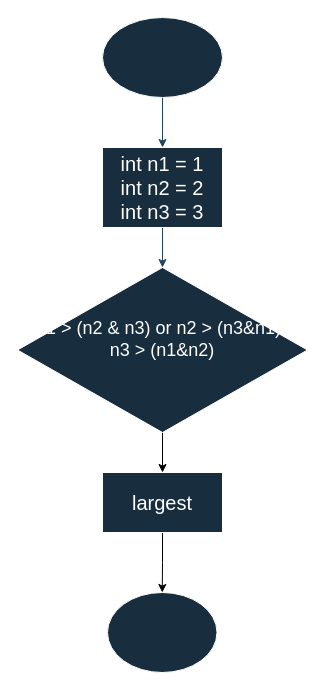
This 325x690 diagram has some shape labels left out. The centre of each missing label's shape, as x and y in pixels:
"End" belongs at point (161, 632).
"Start" belongs at point (162, 57).
